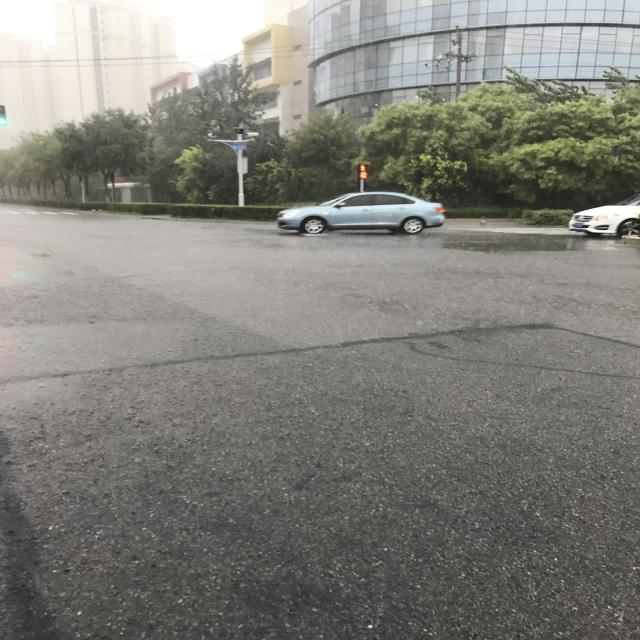car: (192, 194, 236, 362), (200, 0, 240, 71)
